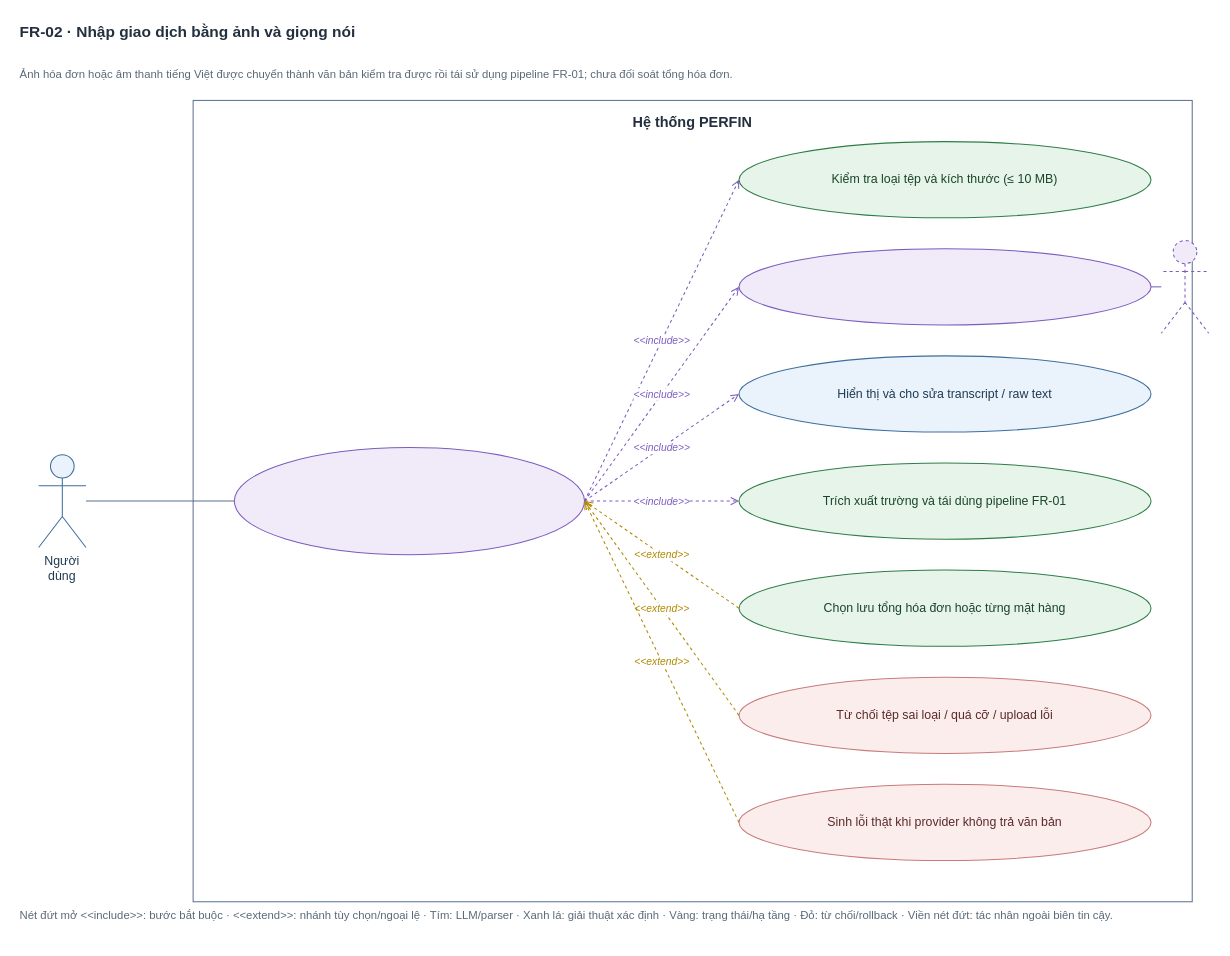
This 1230x956 diagram has some shape labels left out. Here are the shapes that lost their labels. From the top down, the centre of each, then its label:
At (944,286): "Gọi OCR / STT lấy raw text và transcript".
At (1184,286): "Dịch vụ AI ngoài (OCR / STT)".
At (409,501): "Nhập giao dịch bằng ảnh và giọng nói".
